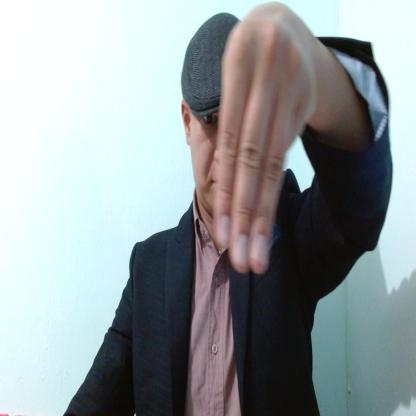M: (218, 7, 322, 273)
